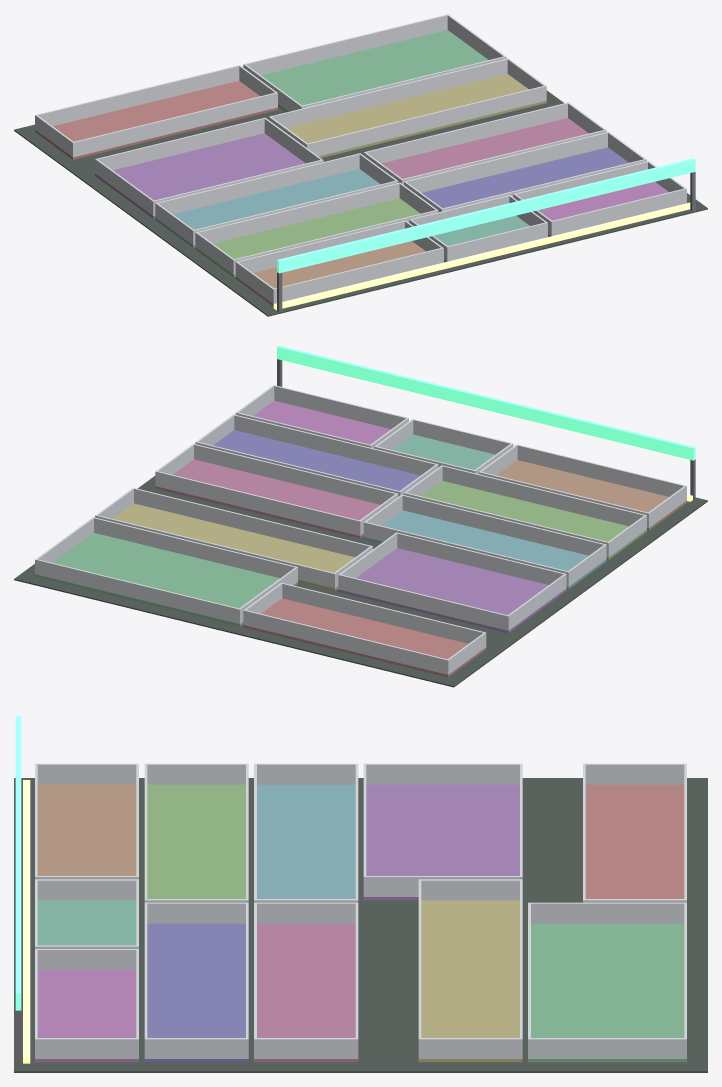
The model's file is hall-survey-drone.glb.
3 views of the same model, one above another, from view 1: azimuth 30°, elevation 25°; view 2: azimuth 150°, elevation 25°; view 3: azimuth 270°, elevation 25° (orthographic). The views are drawn at different scales.
Parts seen in each view (by area): view 1: Aerial Survey Operators; view 2: Aerial Survey Operators; view 3: Aerial Survey Operators.
Boxes of the visible parts, x1,y1,x2,y2 form: Aerial Survey Operators: [14, 14, 707, 316]; Aerial Survey Operators: [14, 345, 707, 687]; Aerial Survey Operators: [14, 716, 707, 1072].
Size of the model in its own units: 38 by 4.3 by 38.
